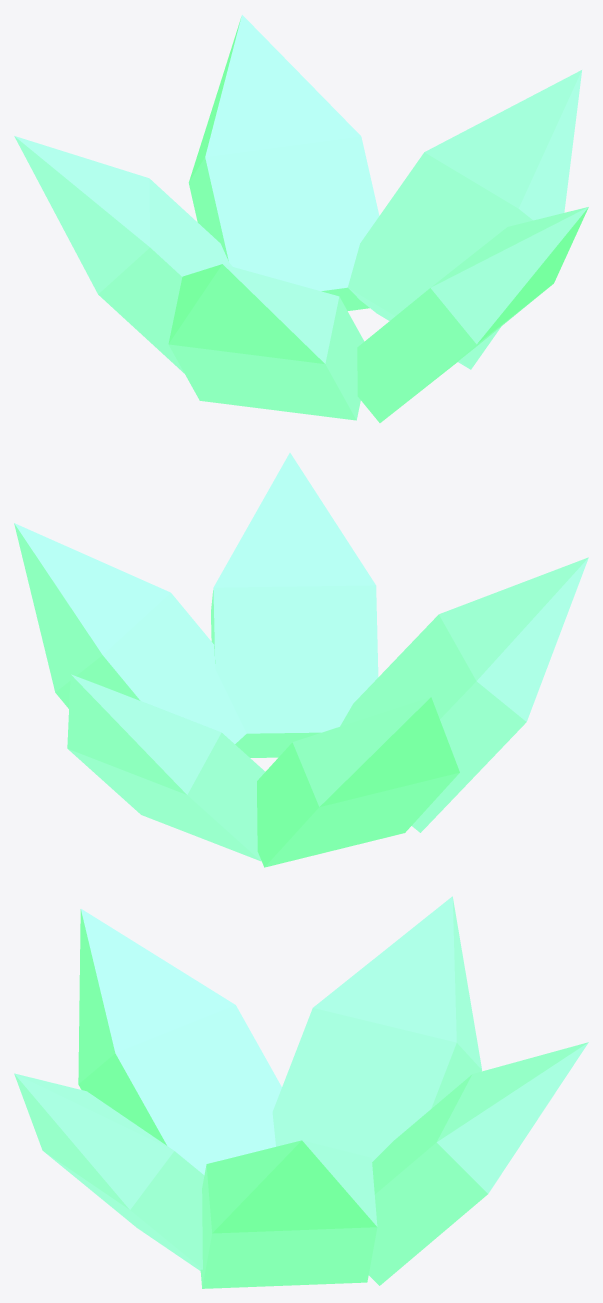
Rendered from grass01.fbx.
3 renders of one model, top to bottom at view 1: azimuth 30°, elevation 25°; view 2: azimuth 150°, elevation 25°; view 3: azimuth 270°, elevation 25°, orthographic.
Visible parts, largest first — view 1: grass01; view 2: grass01; view 3: grass01.
Part boxes in pixels (bbox=[...]): grass01: bbox=[14, 15, 588, 422]; grass01: bbox=[14, 453, 588, 867]; grass01: bbox=[14, 896, 588, 1288].
Bounding box in the file's own units: 1.51 × 0.6595 × 1.51.
